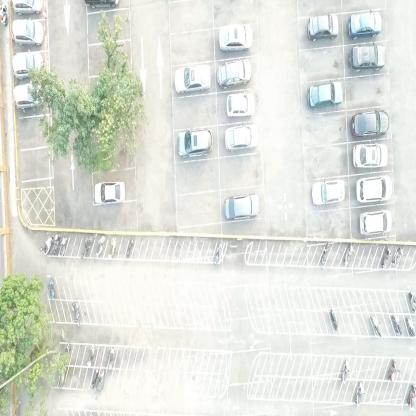car: (177, 126, 213, 159), (351, 109, 390, 139), (306, 79, 342, 111), (217, 58, 252, 90), (310, 175, 346, 206), (224, 191, 260, 222), (349, 43, 386, 73), (356, 174, 393, 203), (174, 64, 211, 93), (218, 22, 253, 52), (224, 123, 260, 152), (348, 10, 382, 40), (358, 208, 392, 237), (352, 142, 388, 169), (12, 51, 44, 80), (307, 14, 340, 41), (12, 20, 45, 47), (14, 82, 44, 111), (226, 92, 256, 118), (94, 181, 125, 206), (10, 0, 42, 16)
